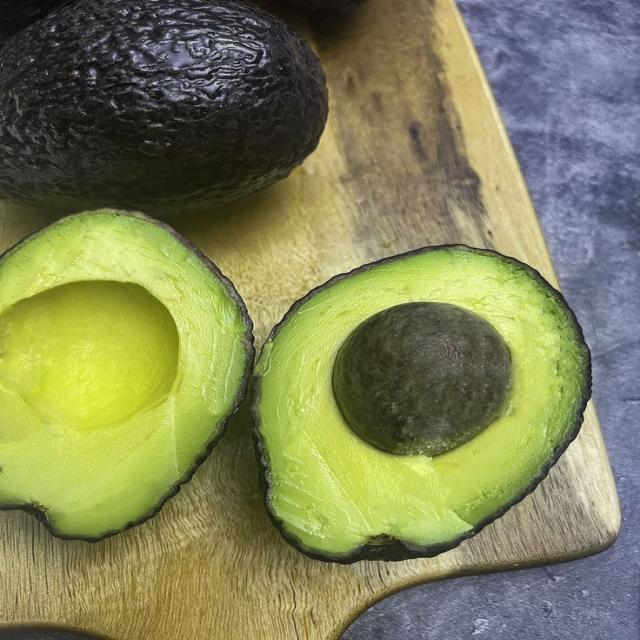avocado: (254, 246, 590, 563), (0, 210, 253, 540), (0, 0, 327, 214), (334, 303, 510, 455), (0, 0, 70, 37), (288, 0, 365, 13)
